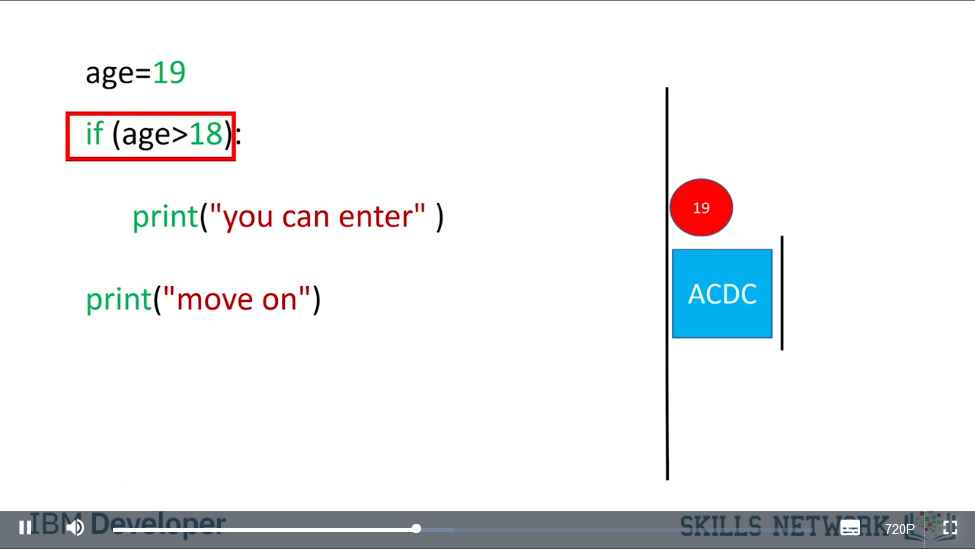code block: (77, 59, 446, 320)
figure: (671, 176, 789, 357)
